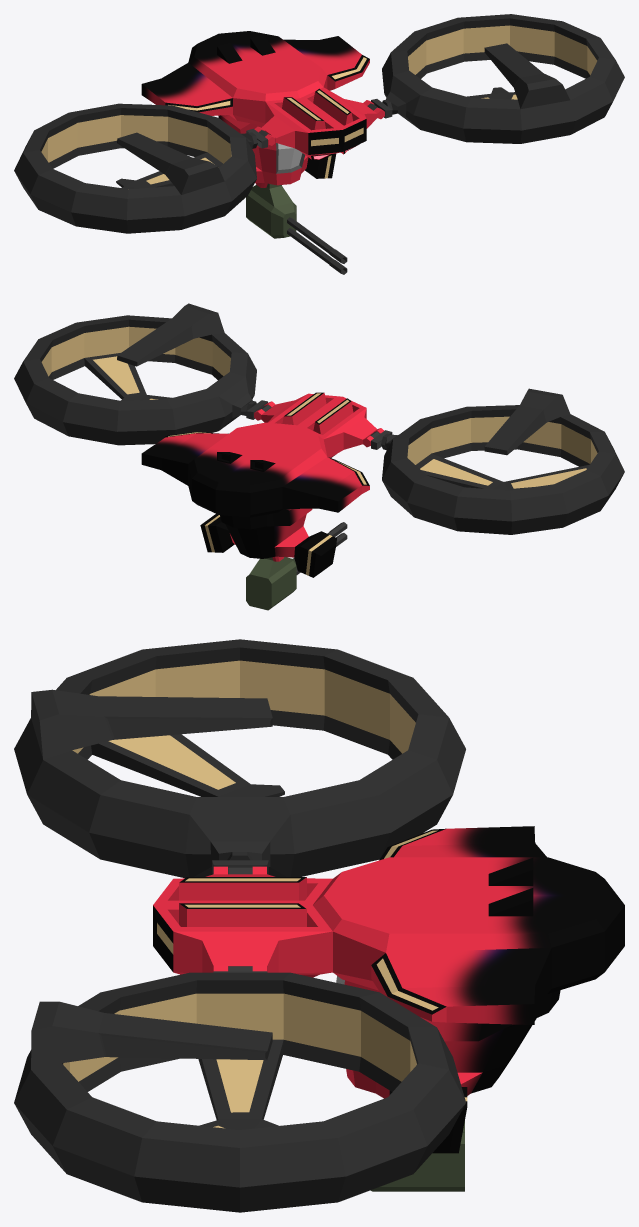
File: Drone1.fbx
3 renders of one model, top to bottom at view 1: azimuth 30°, elevation 25°; view 2: azimuth 150°, elevation 25°; view 3: azimuth 270°, elevation 25°, orthographic. The views are drawn at different scales.
Parts seen in each view (by area): view 1: Drone body, Fan R, Fan L, Fan R.001, Fan L.001, Gun, Drone Lights, Gun pipe 1, Gun pipe 2; view 2: Drone body, Fan R, Fan L, Fan R.001, Fan L.001, Gun, Drone body.002, Drone Lights; view 3: Drone body, Fan L, Fan R, Fan R.001, Fan L.001, Gun, Drone Lights, Drone body.002.
Part boxes in pixels (x1,y1,x2,y2): Drone body: (141,31,384,187); Fan R: (14,103,257,233); Fan L: (382,14,624,143); Fan R.001: (41,115,231,184); Fan L.001: (408,25,597,99); Gun: (246,183,296,238); Drone Lights: (168,57,366,178); Gun pipe 1: (287,217,347,263); Gun pipe 2: (287,228,347,274); Drone body: (141,392,384,577); Fan R: (381,388,624,534); Fan L: (14,303,256,445); Fan R.001: (407,416,597,488); Fan L.001: (41,326,230,399); Gun: (246,557,296,610); Drone body.002: (220,508,312,529); Drone Lights: (168,393,366,575); Drone body: (153,826,624,1153); Fan L: (14,972,465,1212); Fan R: (14,639,465,878); Fan R.001: (72,660,415,789); Fan L.001: (63,993,416,1128); Gun: (370,1121,464,1191); Drone Lights: (157,830,467,1101); Drone body.002: (420,990,560,1041).
Bounding box in the file's own units: 583 × 169 × 288.
6 materials, 1 textured.
